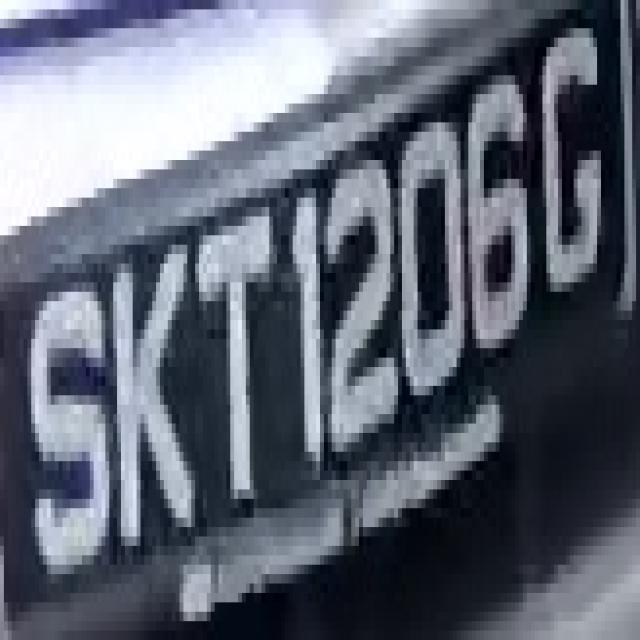0: (390, 122, 472, 433)
1: (285, 169, 332, 480)
2: (316, 160, 402, 471)
6: (456, 38, 530, 367)
G: (534, 28, 620, 320)
K: (102, 207, 195, 565)
S: (20, 254, 113, 574)
T: (179, 207, 289, 518)
